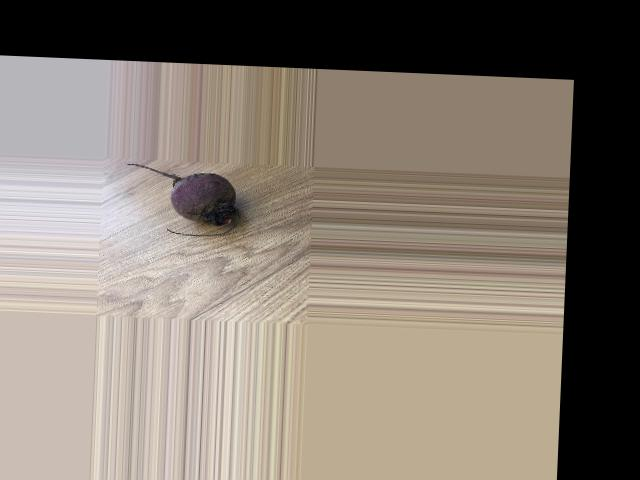beet: (123, 163, 240, 237)
